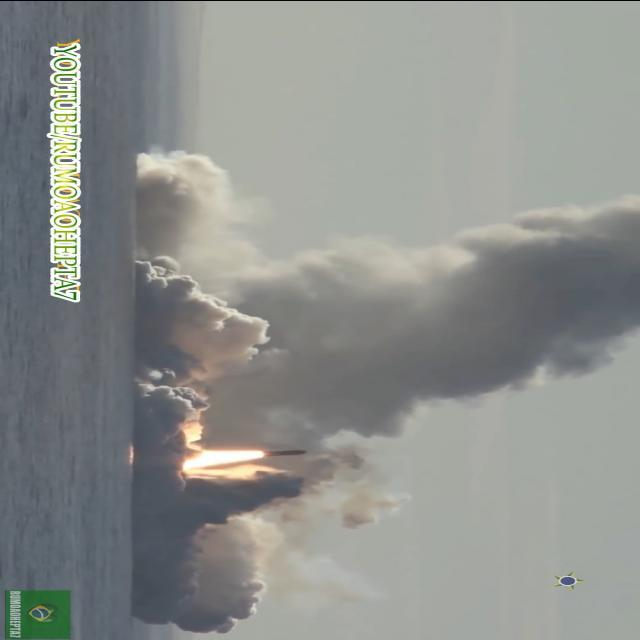Missile: (253, 448, 316, 456)
